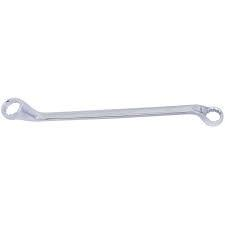wrench: (0, 95, 223, 127)
